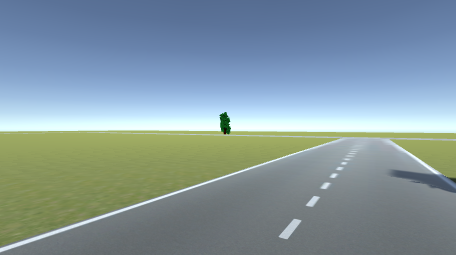tree: (219, 111, 232, 135)
